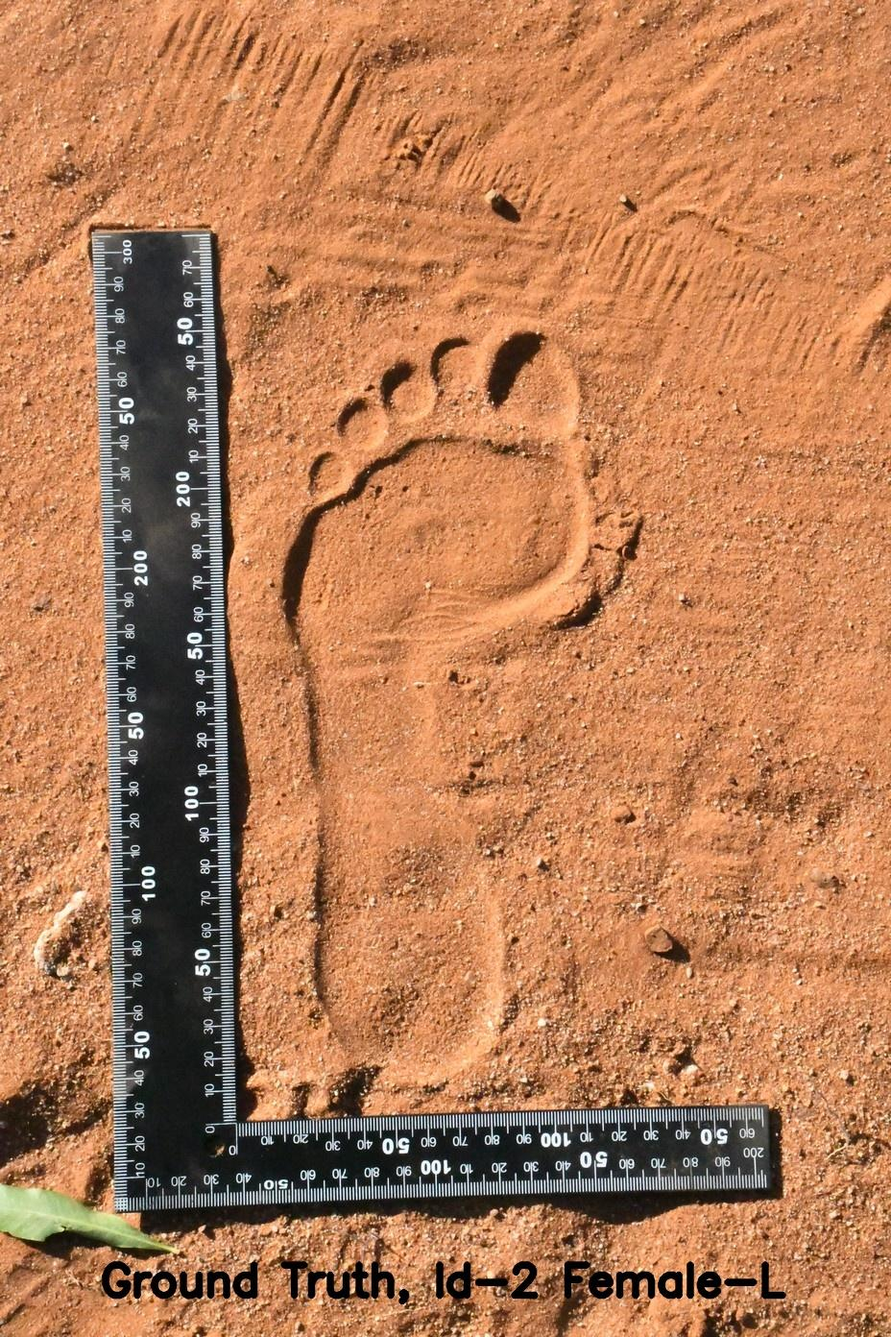human_footprint: (241, 260, 641, 1107)
